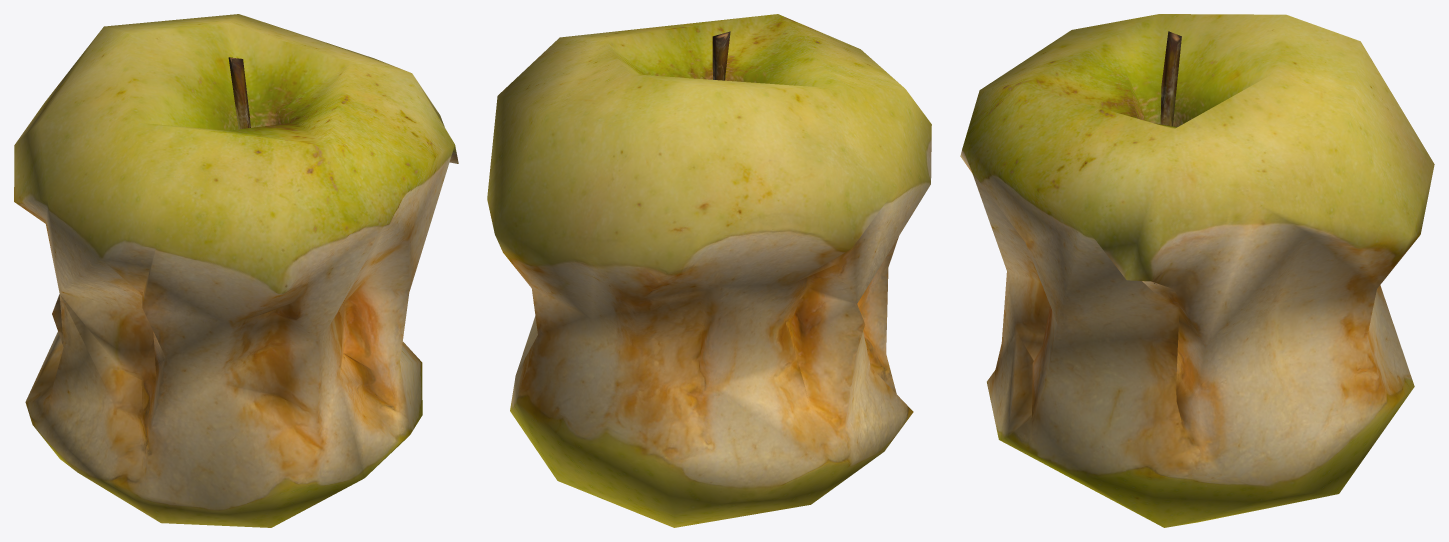
File: bitten_apple_tgyociqpa_low.glb
3 views of the same model, side by side, from view 1: azimuth 30°, elevation 25°; view 2: azimuth 150°, elevation 25°; view 3: azimuth 270°, elevation 25° (orthographic). The views are drawn at different scales.
Parts seen in each view (by area): view 1: tgyociqpa_LOD0_TIER3_000; view 2: tgyociqpa_LOD0_TIER3_000; view 3: tgyociqpa_LOD0_TIER3_000.
Part boxes in pixels (bbox=[...]): tgyociqpa_LOD0_TIER3_000: bbox=[14, 14, 458, 527]; tgyociqpa_LOD0_TIER3_000: bbox=[487, 14, 931, 527]; tgyociqpa_LOD0_TIER3_000: bbox=[960, 14, 1434, 527].
Size of the model in its own units: 0.0817 by 0.0896 by 0.0851.
Materials: 1 (1 with a texture image).
